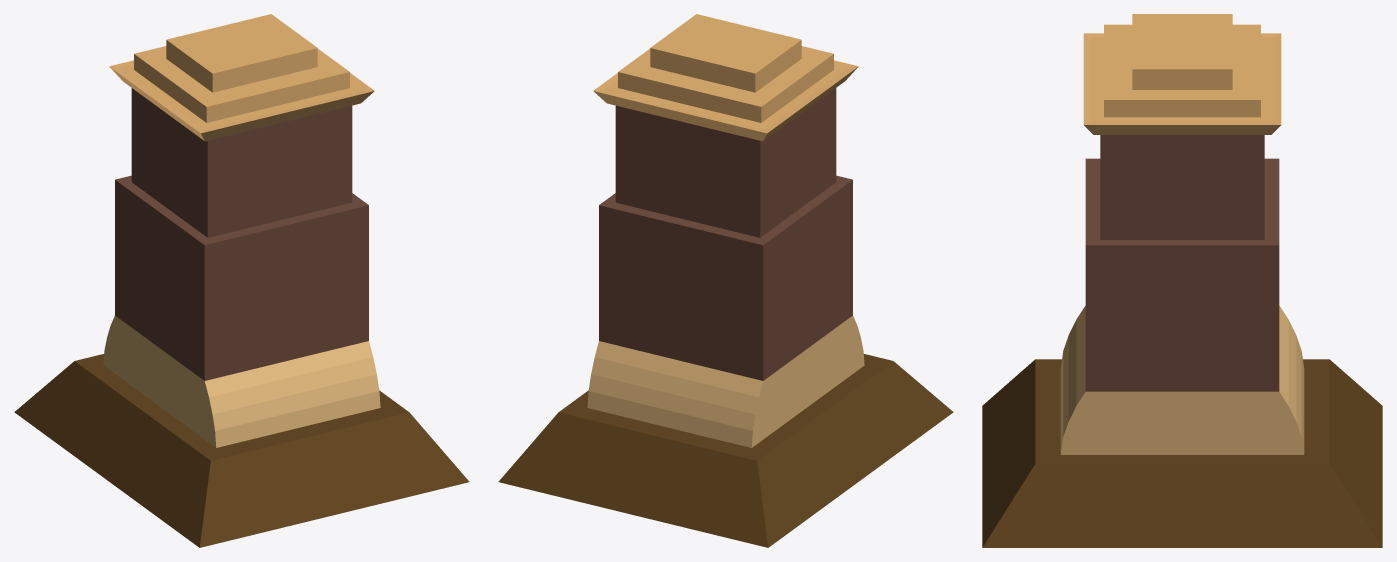
The picture shows the model from 3 angles, left to right: view 1: azimuth 30°, elevation 25°; view 2: azimuth 150°, elevation 25°; view 3: azimuth 270°, elevation 25°; orthographic projection. The views are drawn at different scales.
Parts seen in each view (by area): view 1: Cube.001; view 2: Cube.001; view 3: Cube.001.
Boxes of the visible parts, x1,y1,x2,y2 form: Cube.001: (14,14,469,547); Cube.001: (498,14,953,547); Cube.001: (982,14,1382,547).
Bounding box in the file's own units: 1.52 × 2.17 × 1.81.
